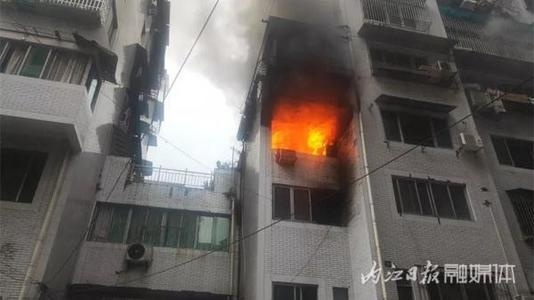fire: (269, 109, 337, 154)
